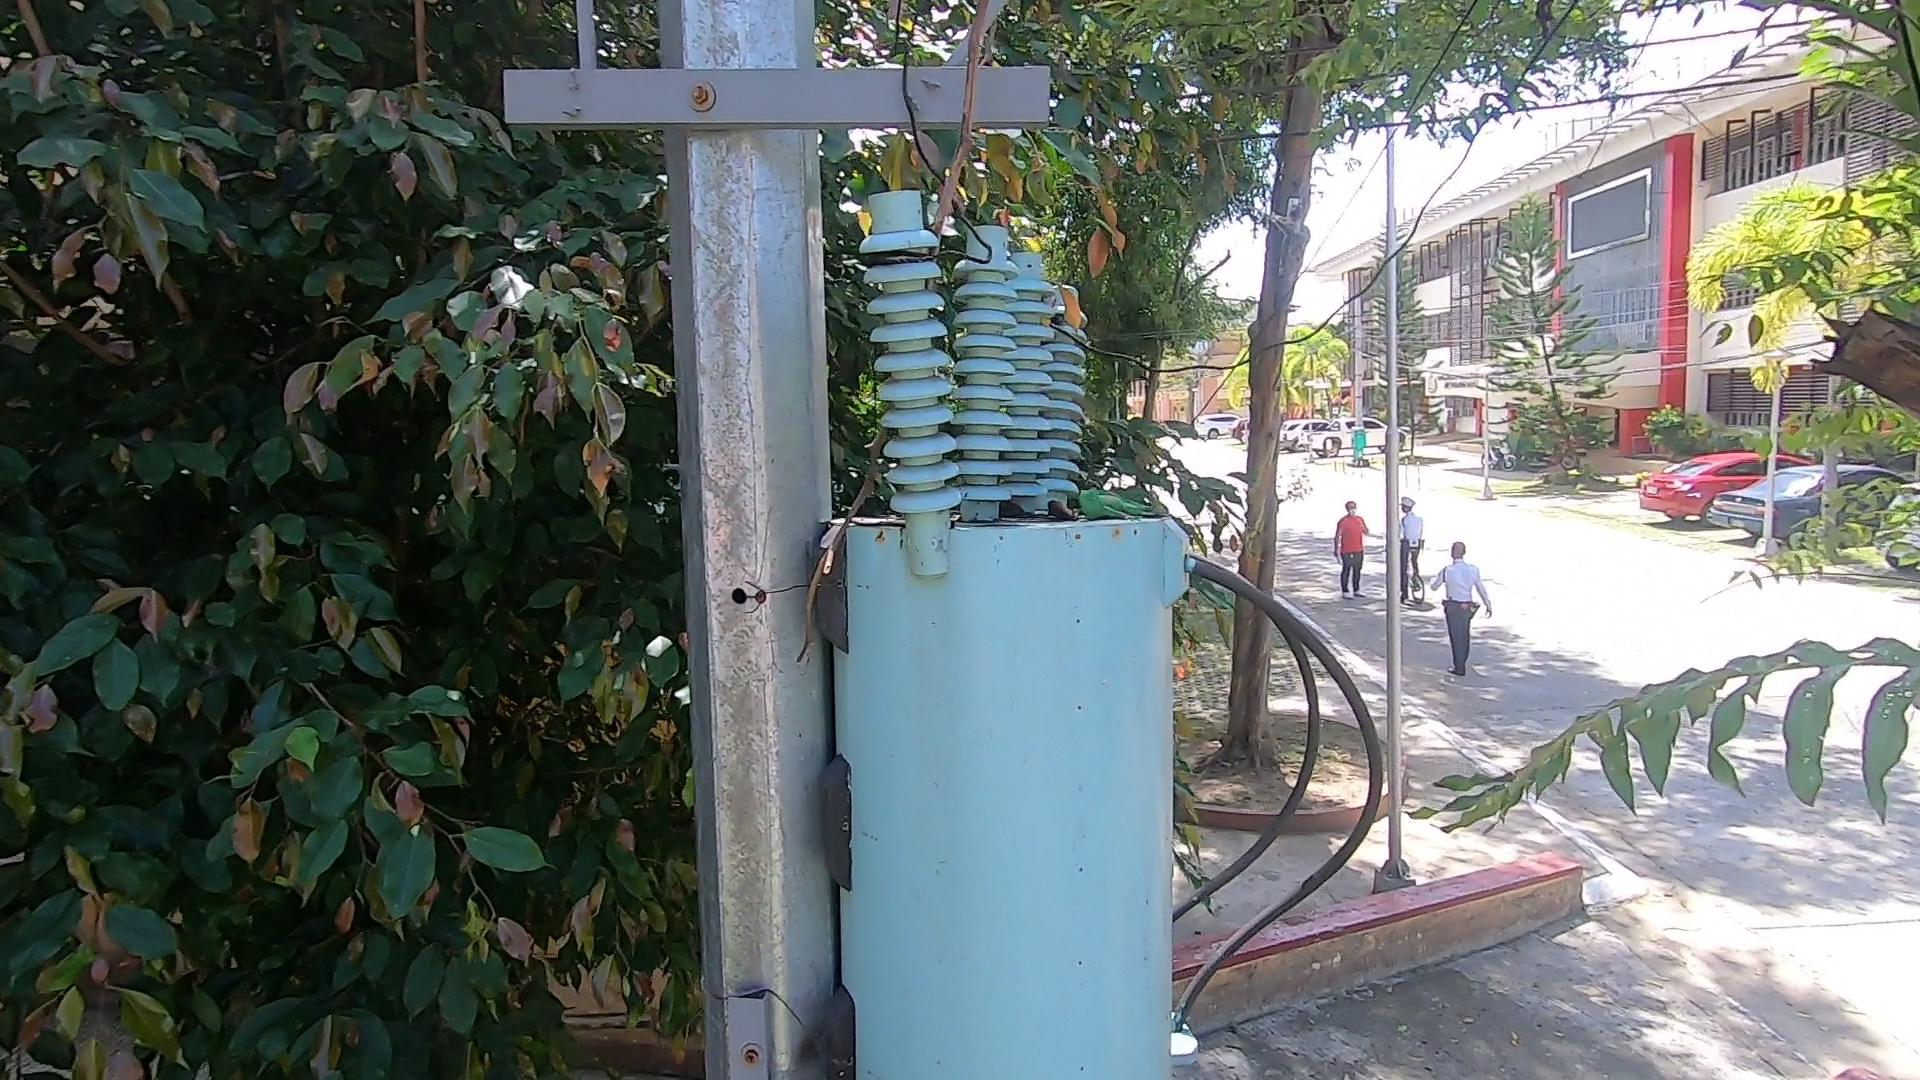leaf: (1054, 284, 1092, 335), (1001, 495, 1031, 524), (1044, 496, 1065, 514)
tree branch: (790, 3, 994, 655)
